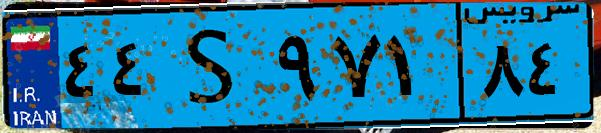1: (385, 28, 445, 110)
4: (57, 26, 110, 100), (525, 38, 570, 115), (110, 28, 158, 98)
7: (330, 28, 385, 110)
8: (475, 38, 525, 113)
9: (270, 28, 330, 110)
S: (158, 12, 270, 120)
